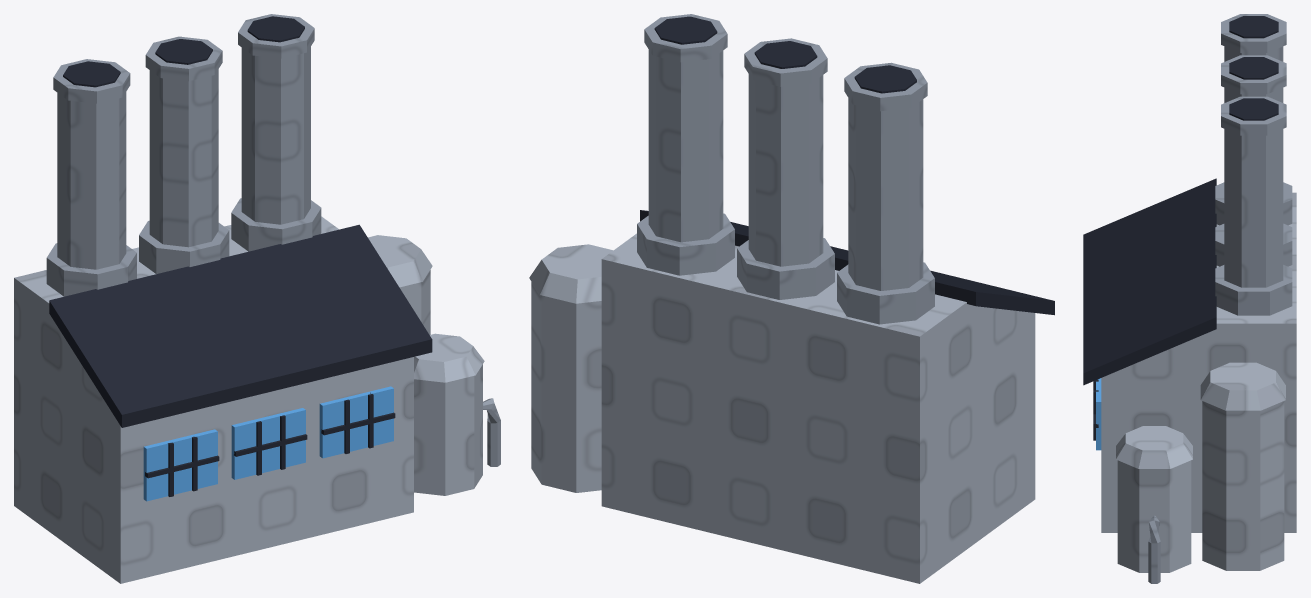
File: Usine_Grise.glb
3 views of the same model, side by side, from view 1: azimuth 30°, elevation 25°; view 2: azimuth 150°, elevation 25°; view 3: azimuth 270°, elevation 25° (orthographic). The views are drawn at different scales.
Parts seen in each view (by area): view 1: Usine_Grise; view 2: Usine_Grise; view 3: Usine_Grise.
Part boxes in pixels (<box>): Usine_Grise: <box>14,14,500,583</box>; Usine_Grise: <box>529,14,1054,583</box>; Usine_Grise: <box>1083,14,1296,583</box>.
Bounding box in the file's own units: 4.96 × 4.97 × 2.4.
4 materials, 2 textured.
